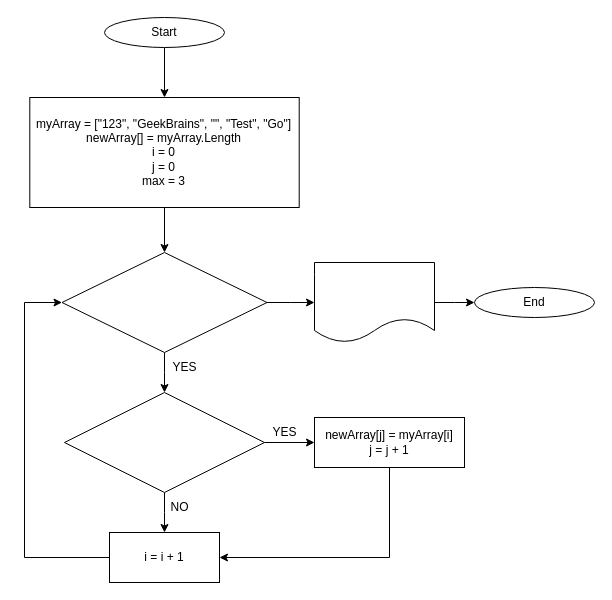
Some shapes in this 612 by 600 pixel diagram are drawn without their labels. The shapes that lost their labels are listed below. From the top down, each one's centre as x and y in pixels, then its label:
At (x=164, y=302): "i < myArray.Length".
At (x=374, y=302): "newArray".
At (x=164, y=442): "myArray[i].Length > 0 myArray[i].Length <= max".
